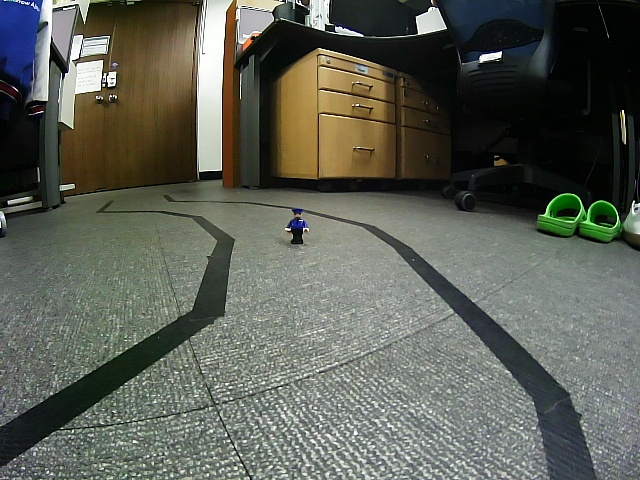person: (284, 206, 309, 245)
